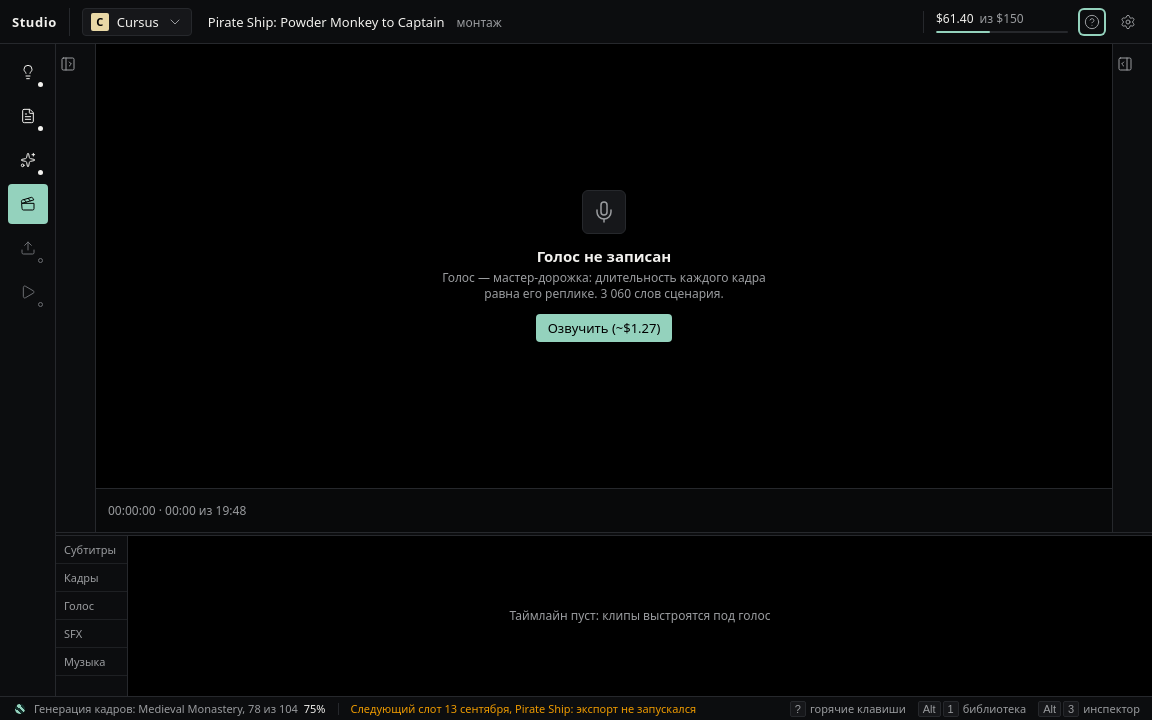
оболочка › «?» открывает помощь, список — из реестра, «?» и Esc закрывают с возвратом фокуса
The image size is (1152, 720).
Expected: the navigation bar named "Этапы выпуска" is shown, left=0, top=44, right=56, bottom=696
Type keys "?"
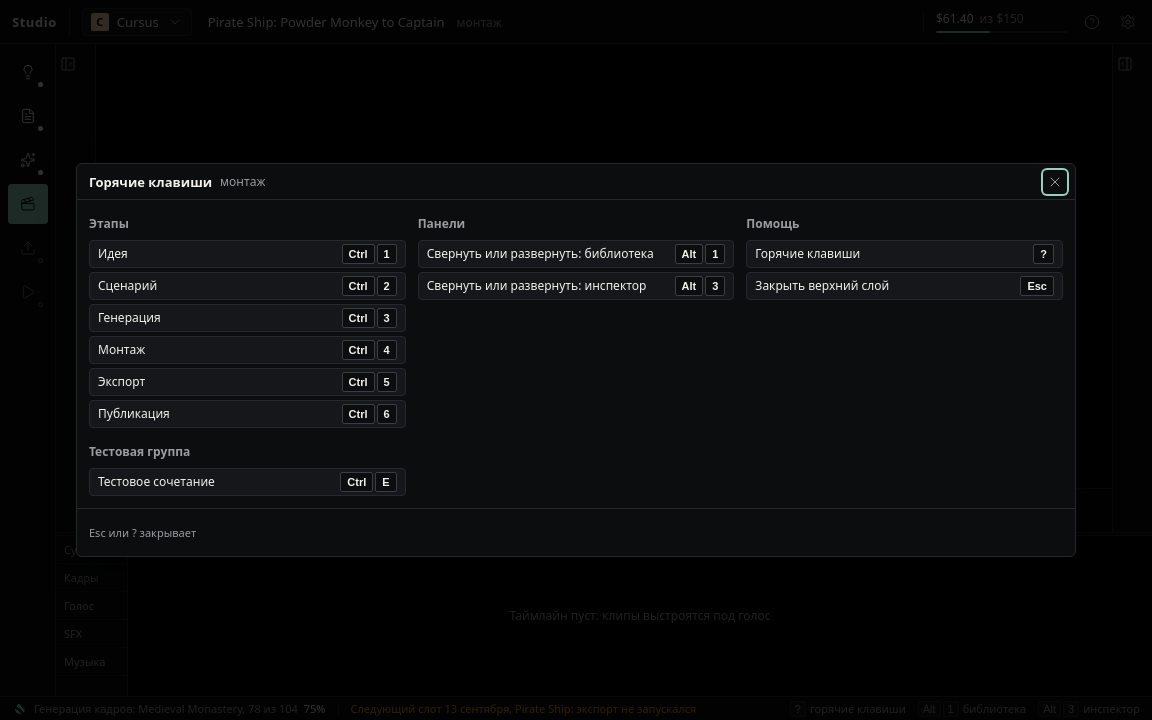
Result: the text "Тестовое сочетание" is shown at left=98, top=473, right=215, bottom=490
Result: the text "Монтаж" is shown at left=98, top=341, right=145, bottom=358
Result: the text "Свернуть или развернуть: инспектор" is shown at left=427, top=278, right=667, bottom=294
Type keys "?"
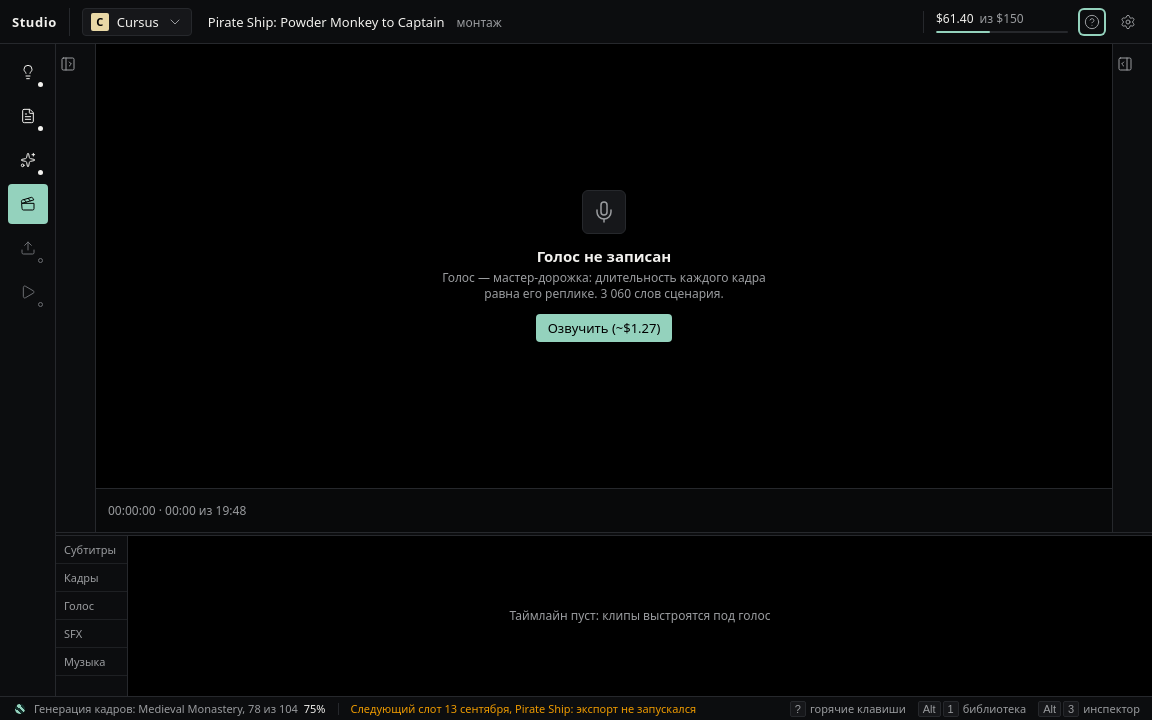
Result: the dialog is gone
Click the button named "Горячие клавиши (?)".
click(1092, 22)  # box left=1080, top=10, right=1104, bottom=34
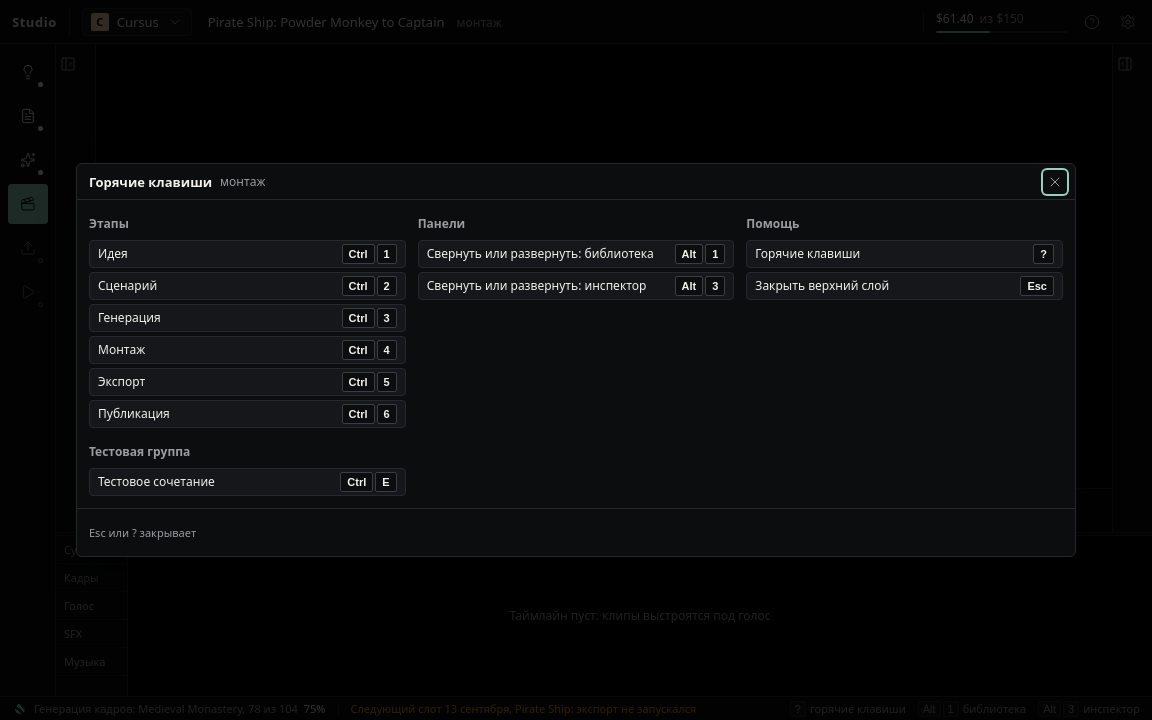
Result: the dialog is shown at left=76, top=163, right=1076, bottom=557
Press Escape
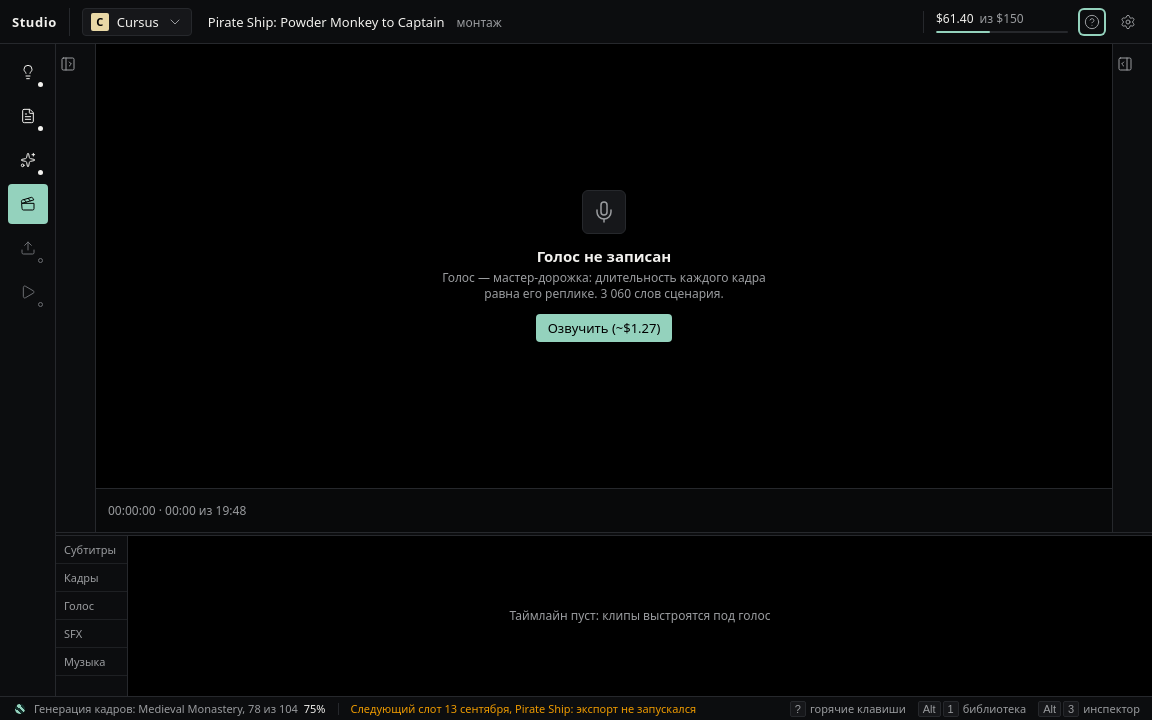
Result: the dialog is gone
